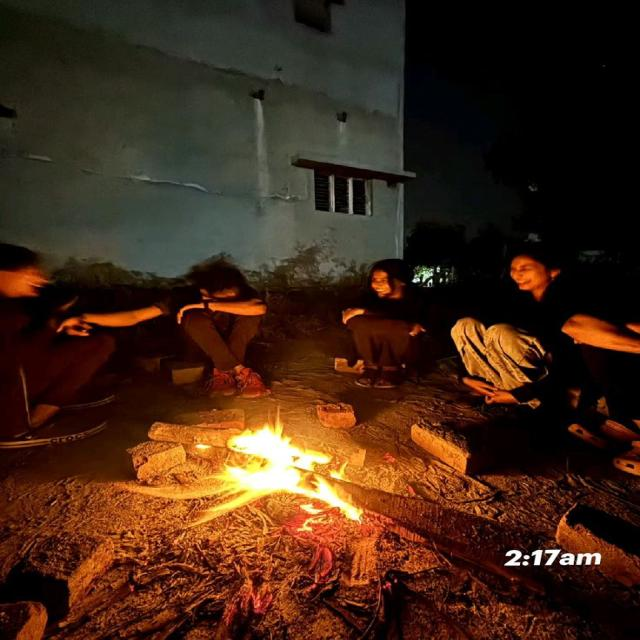fire: (194, 405, 363, 526)
